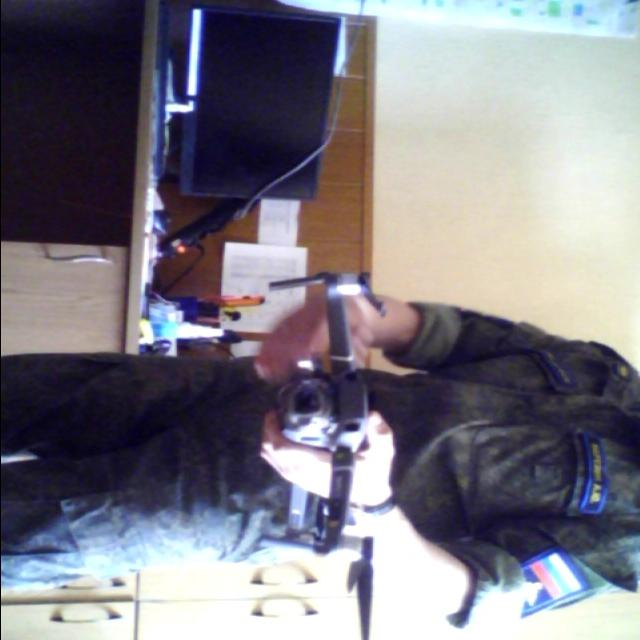drone: (260, 248, 401, 620)
